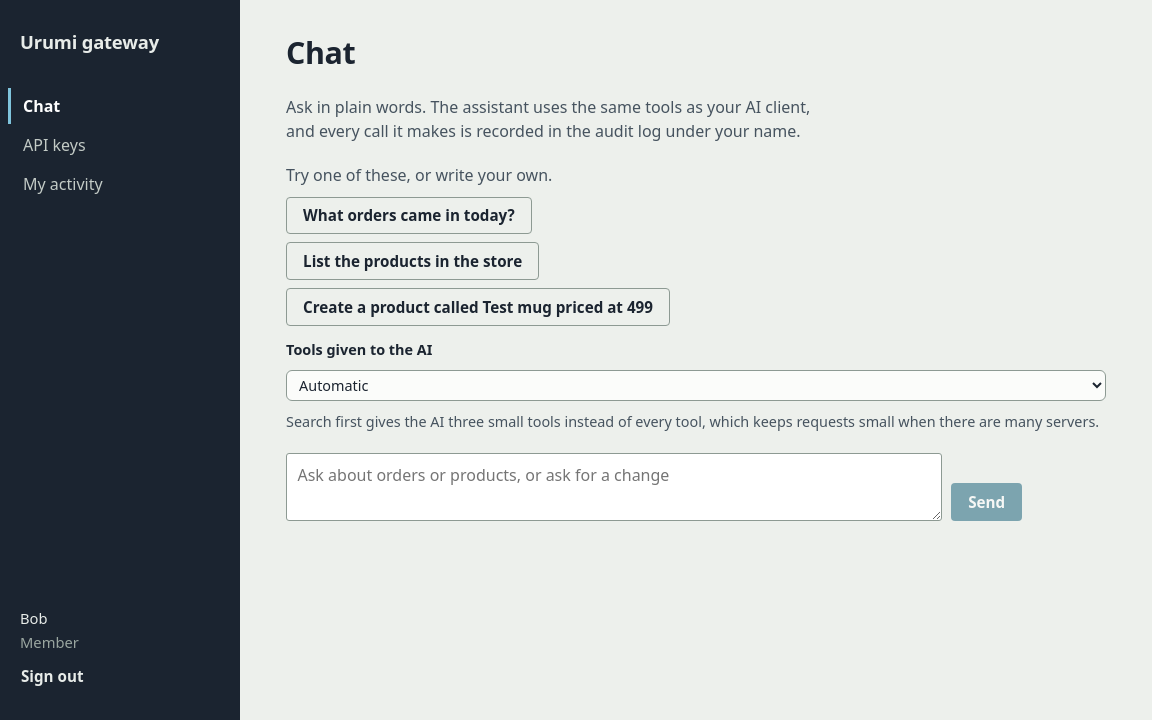
Scenario: chat › reveals arguments and the result on request
Expected: the heading "Chat" is shown, [286,36,355,71]
Type "orders today" into the text box named "Your message" at (614, 487), box [286,453,942,521]
Then press Enter
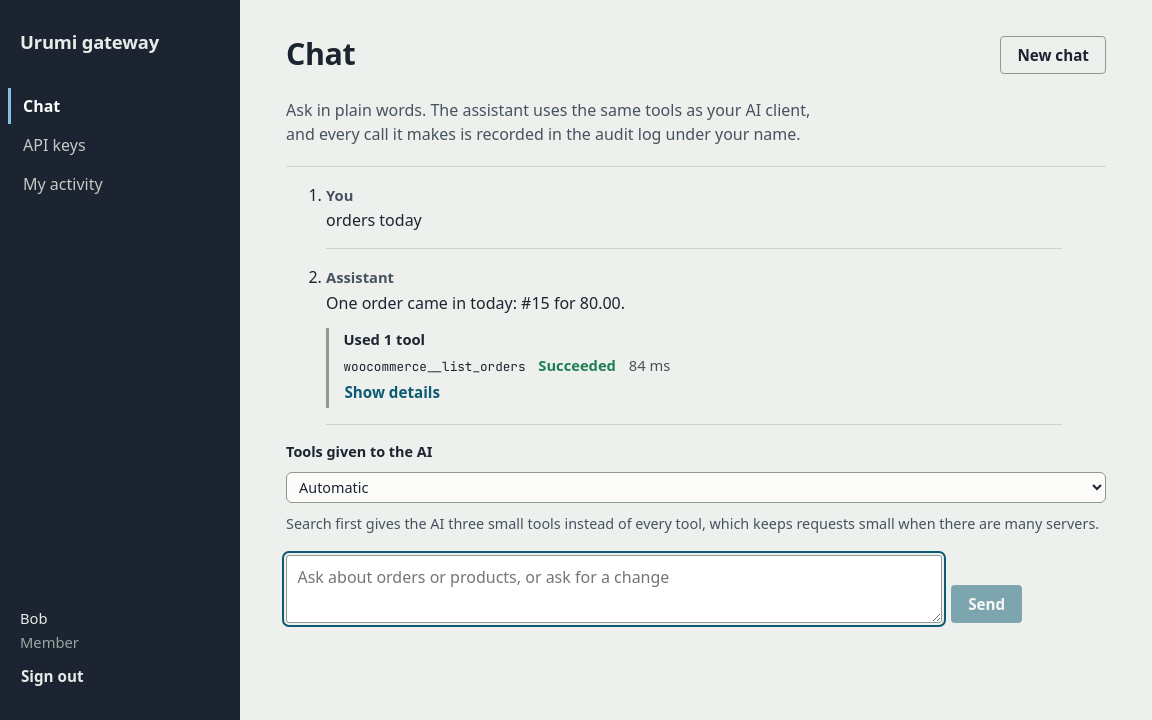
Click the button "Show details" at (392, 392), box [334,377,451,408]
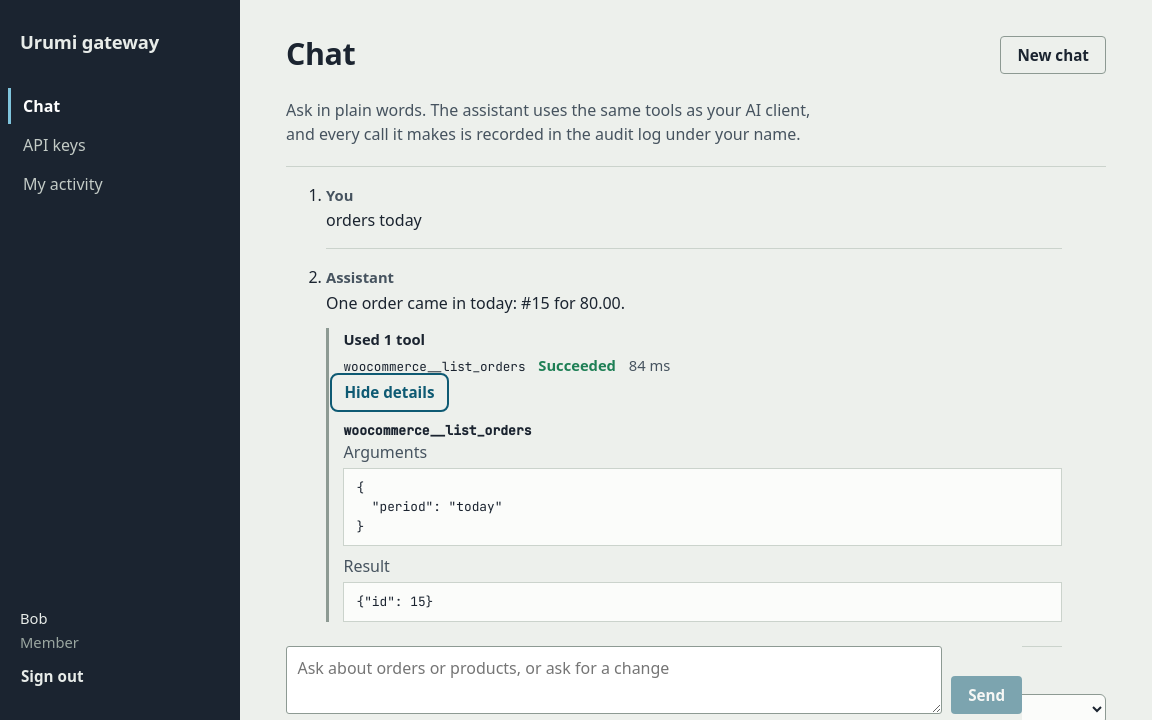
Now the text "{ \"period\": \"today\" }" is shown, box [344,468,1062,546]
Now the text "{\"id\": 15}" is shown, box [344,582,1062,622]
